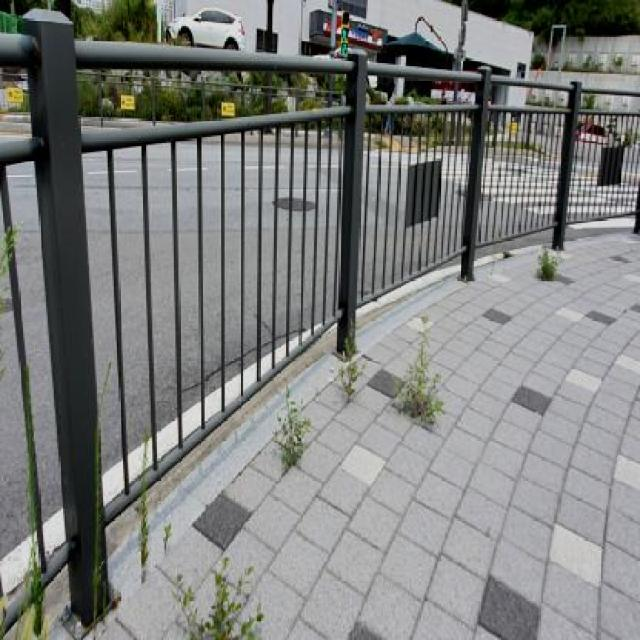fence: (0, 2, 355, 614), (230, 71, 638, 358)
